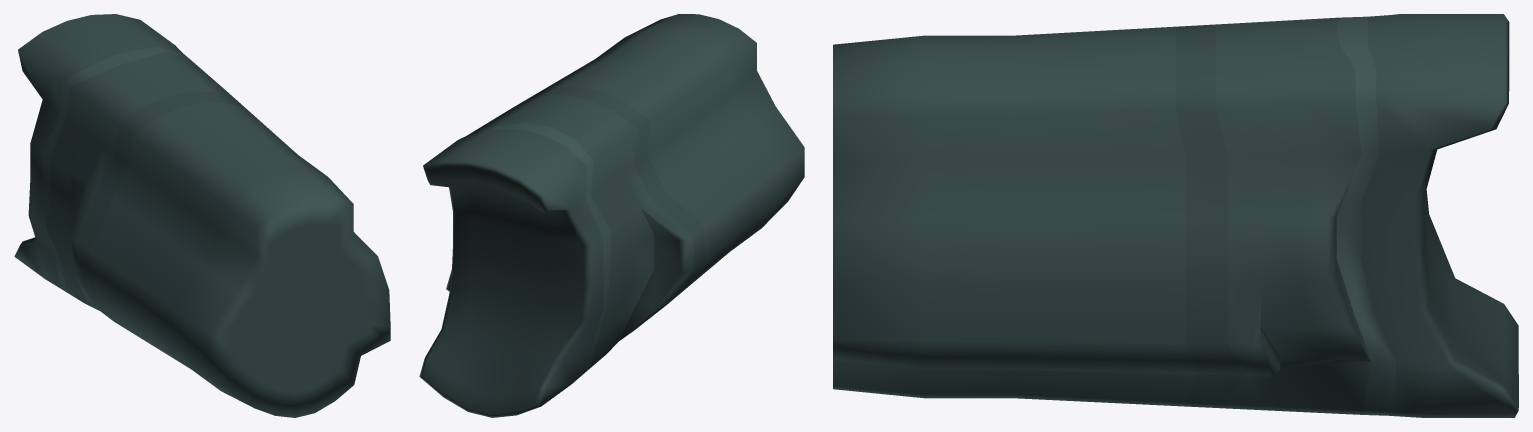
Rendered from AlienPillar.003.glb.
3 renders of one model, left to right at view 1: azimuth 30°, elevation 25°; view 2: azimuth 150°, elevation 25°; view 3: azimuth 270°, elevation 25°, orthographic. The views are drawn at different scales.
Parts seen in each view (by area): view 1: AlienPillar.003; view 2: AlienPillar.003; view 3: AlienPillar.003.
Boxes of the visible parts, bbox=[...] form: AlienPillar.003: bbox=[14, 14, 390, 417]; AlienPillar.003: bbox=[419, 14, 804, 417]; AlienPillar.003: bbox=[833, 14, 1518, 417].
Bounding box in the file's own units: 2045 × 2427 × 4071.
